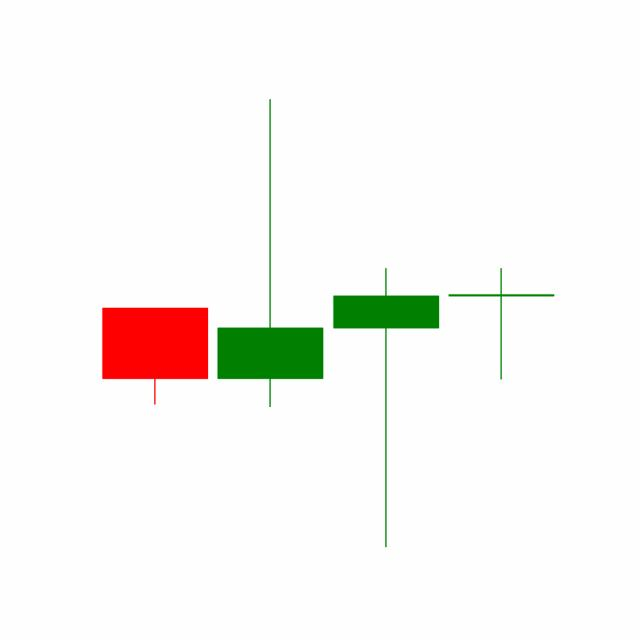Hanging Man: (443, 266, 559, 382)
